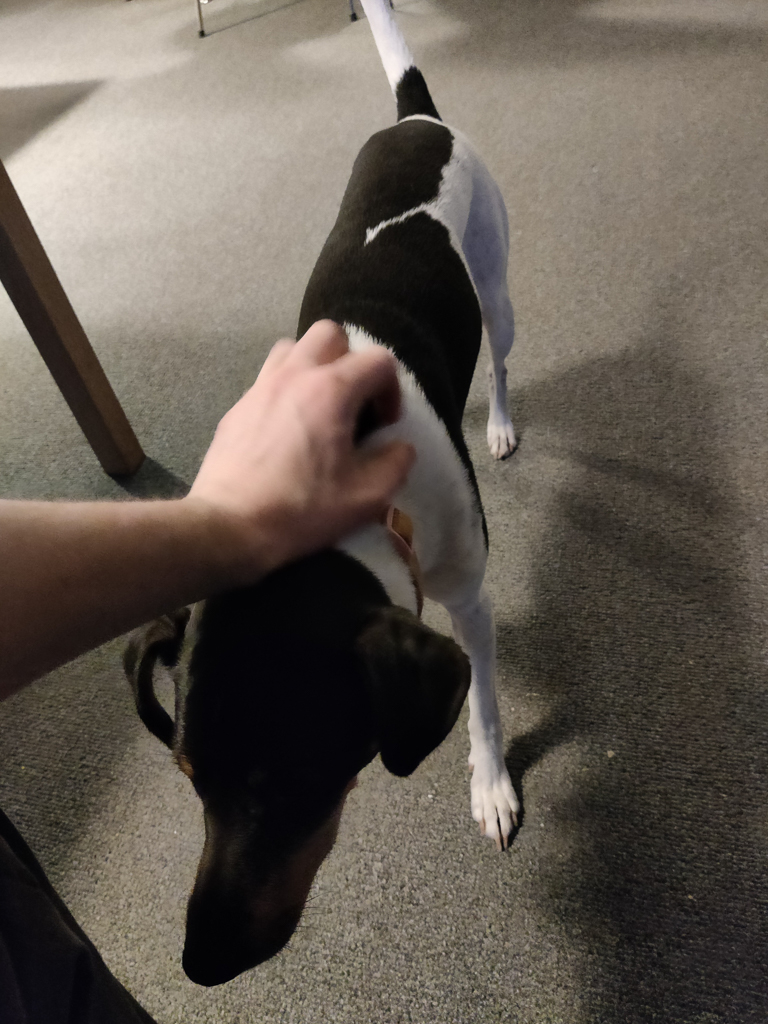Dog: (117, 0, 537, 1012)
Humanoid: (0, 310, 443, 730)
